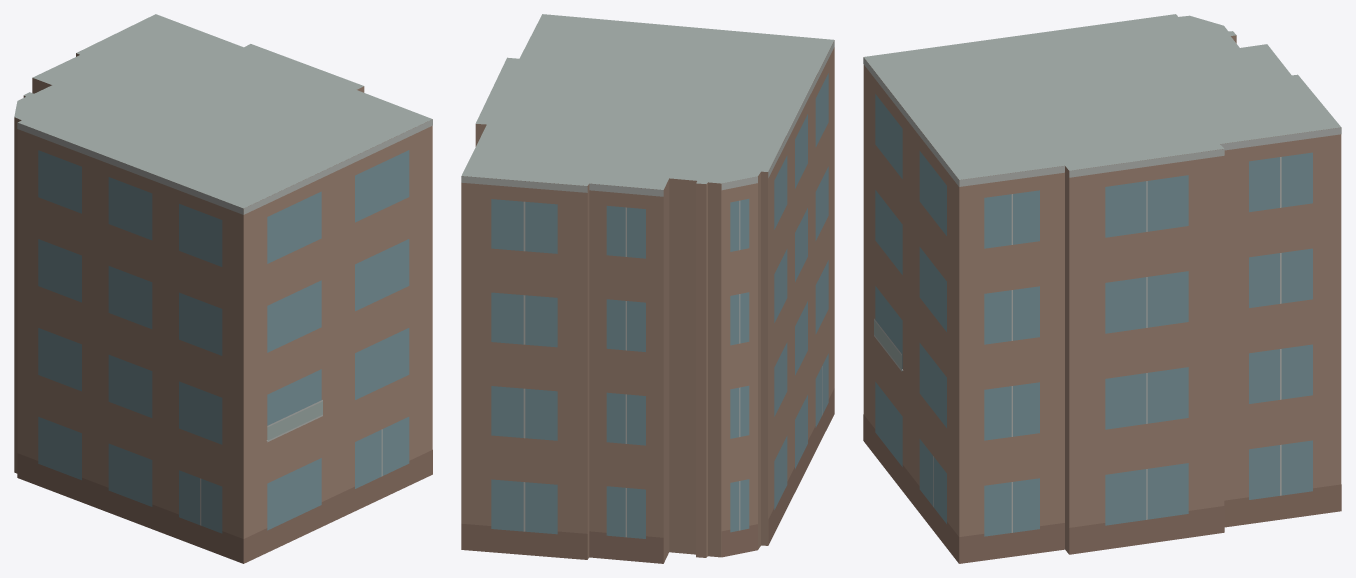
The model's file is survey-upis-32524248.glb.
3 views of the same model, side by side, from view 1: azimuth 30°, elevation 25°; view 2: azimuth 150°, elevation 25°; view 3: azimuth 270°, elevation 25° (orthographic). The views are drawn at different scales.
Parts seen in each view (by area): view 1: survey-upis-32524248.tmp; view 2: survey-upis-32524248.tmp; view 3: survey-upis-32524248.tmp.
Boxes of the visible parts, <box> form: survey-upis-32524248.tmp: <box>14,14,432,563</box>; survey-upis-32524248.tmp: <box>461,14,834,563</box>; survey-upis-32524248.tmp: <box>863,14,1341,563</box>.
Size of the model in its own units: 12.44 by 13.4 by 15.13.
